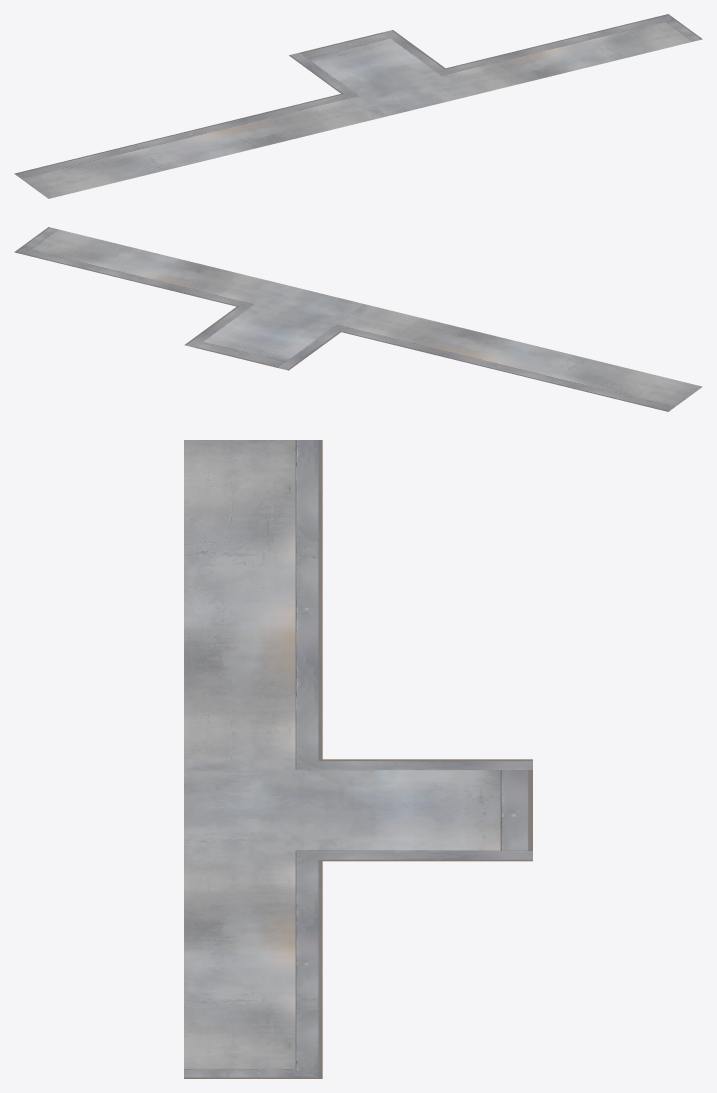
File: YYZL_Diban1_fbx.FBX
The picture shows the model from 3 angles, top to bottom: view 1: azimuth 30°, elevation 25°; view 2: azimuth 150°, elevation 25°; view 3: azimuth 270°, elevation 25°; orthographic projection. The views are drawn at different scales.
Parts seen in each view (by area): view 1: Object010; view 2: Object010; view 3: Object010.
Boxes of the visible parts, bbox=[...] form: Object010: bbox=[14, 14, 702, 198]; Object010: bbox=[14, 227, 702, 411]; Object010: bbox=[184, 440, 532, 1078].
Size of the model in its own units: 48.33 by 9.4e-06 by 11.15.
